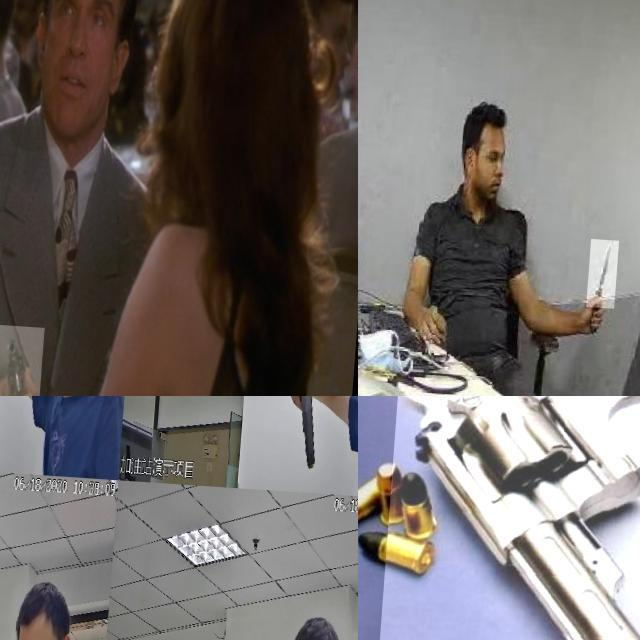-: (594, 234, 626, 304)
gun-knife-thesis - v11 Yolov5 augmented: (386, 396, 640, 640), (0, 320, 52, 396), (285, 396, 328, 459), (0, 396, 19, 450)
